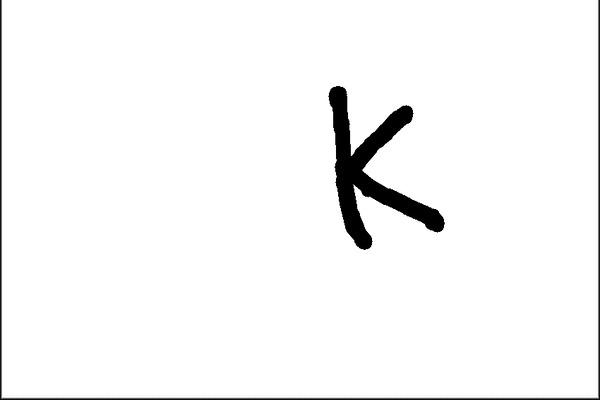K: (316, 78, 449, 253)
